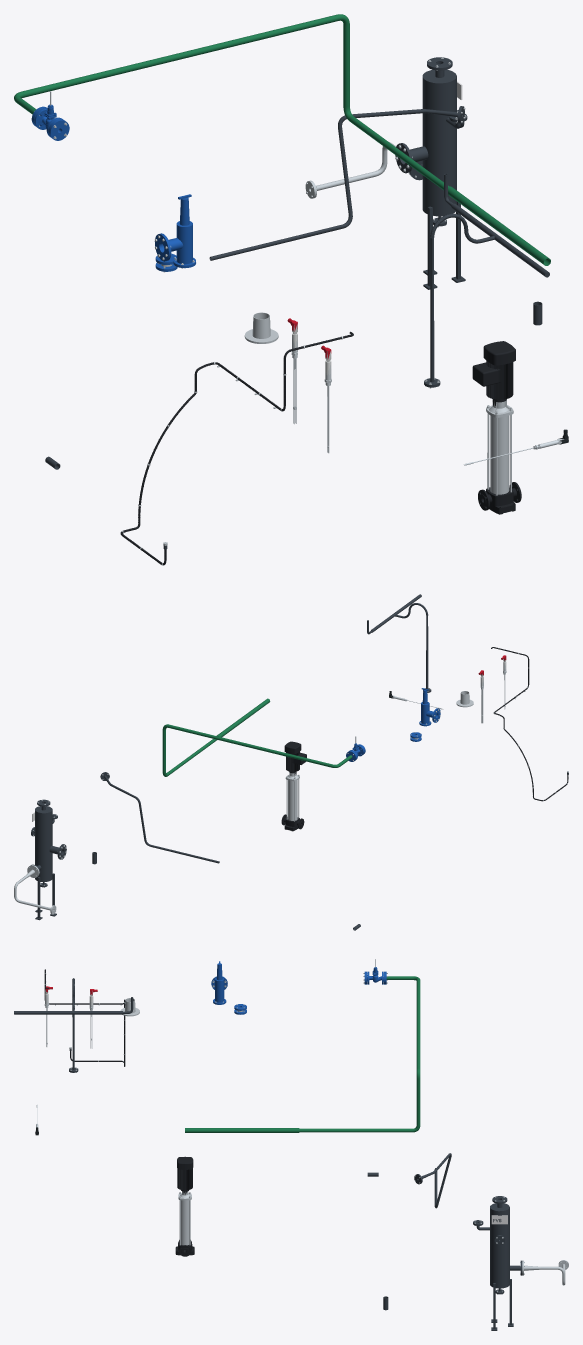
The picture shows the model from 3 angles, top to bottom: view 1: azimuth 30°, elevation 25°; view 2: azimuth 150°, elevation 25°; view 3: azimuth 270°, elevation 25°; orthographic projection. The views are drawn at different scales.
Parts seen in each view (by area): view 1: separator_fv8 / dark, to_direct / green, pressure_header / dark, pump_1 CAD solid 15, tds_without_fv / dark, safety_2 / blue, pump_1 CAD solid 2, wiring_lcs600 / black, pump_delivery / green, pump_1 CAD solid 0, steam_mount_adapter / steel, fv_to_trap_gap / steel; view 2: separator_fv8 / dark, to_direct / green, pressure_header / dark, tds_without_fv / dark, wiring_lcs600 / black, pump_1 CAD solid 15; view 3: separator_fv8 / dark, to_direct / green, pressure_header / dark, pump_delivery / green, pump_1 CAD solid 15, tds_without_fv / dark.
Boxes of the visible parts, left/top/right/bottom form: separator_fv8 / dark: left=395, top=57, right=467, bottom=289; to_direct / green: left=14, top=14, right=448, bottom=190; pressure_header / dark: left=424, top=173, right=549, bottom=387; pump_1 CAD solid 15: left=472, top=341, right=515, bottom=400; tds_without_fv / dark: left=209, top=106, right=464, bottom=260; safety_2 / blue: left=154, top=194, right=195, bottom=268; pump_1 CAD solid 2: left=490, top=415, right=509, bottom=494; wiring_lcs600 / black: left=120, top=331, right=353, bottom=565; pump_delivery / green: left=448, top=186, right=550, bottom=265; pump_1 CAD solid 0: left=478, top=482, right=521, bottom=514; steam_mount_adapter / steel: left=244, top=312, right=278, bottom=343; fv_to_trap_gap / steel: left=305, top=142, right=411, bottom=198; separator_fv8 / dark: left=31, top=799, right=66, bottom=920; to_direct / green: left=162, top=724, right=352, bottom=776; pressure_header / dark: left=367, top=594, right=431, bottom=692; tds_without_fv / dark: left=100, top=772, right=219, bottom=863; wiring_lcs600 / black: left=491, top=647, right=568, bottom=801; pump_1 CAD solid 15: left=284, top=741, right=306, bottom=772; separator_fv8 / dark: left=473, top=1196, right=522, bottom=1330; to_direct / green: left=299, top=976, right=420, bottom=1132; pressure_header / dark: left=14, top=978, right=133, bottom=1072; pump_delivery / green: left=185, top=1128, right=299, bottom=1132; pump_1 CAD solid 15: left=177, top=1156, right=193, bottom=1190; tds_without_fv / dark: left=414, top=1153, right=451, bottom=1208.
Size of the model in its own units: 4.91 by 2.96 by 6.08.
